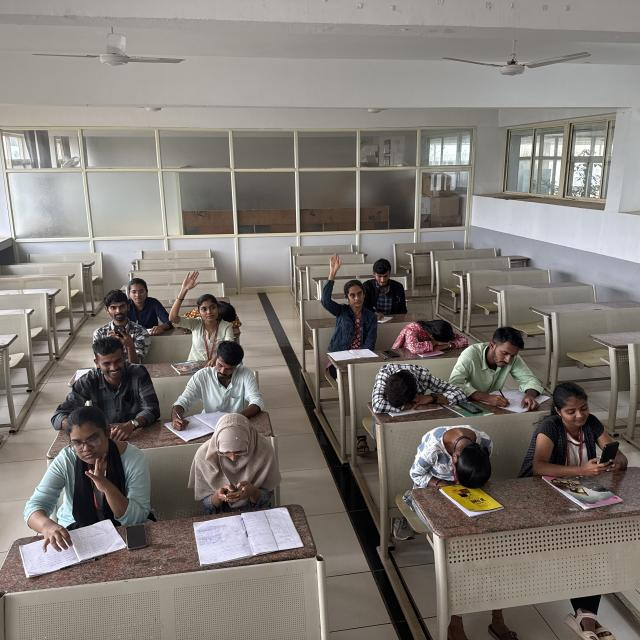Hand Rising: (318, 250, 374, 344), (167, 266, 224, 355)
Reading: (18, 405, 135, 557)
Sleeping: (406, 424, 497, 488), (370, 361, 463, 411), (394, 314, 470, 350)
Using Phone: (524, 382, 626, 478), (189, 413, 279, 512), (88, 290, 147, 348)
Writing: (170, 336, 268, 433), (453, 326, 547, 412), (363, 256, 408, 322)
